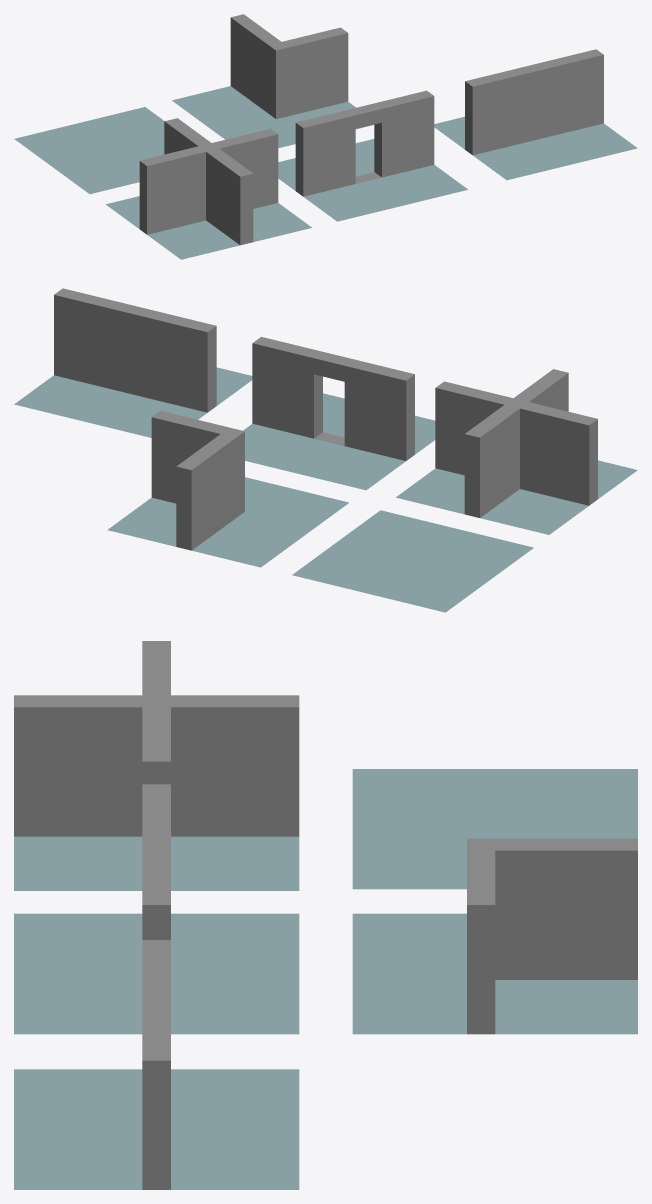
Rendered from daddy.fbx.
3 views of the same model, one above another, from view 1: azimuth 30°, elevation 25°; view 2: azimuth 150°, elevation 25°; view 3: azimuth 270°, elevation 25° (orthographic). The views are drawn at different scales.
Visible parts, largest first — view 1: SM_Muur_Cross, SM_Muur_Reg, SM_Muur_Door, SM_Muur_Corner, SM_Muur_Floor; view 2: SM_Muur_Cross, SM_Muur_Reg, SM_Muur_Door, SM_Muur_Corner, SM_Muur_Floor; view 3: SM_Muur_Cross, SM_Muur_Corner, SM_Muur_Reg, SM_Muur_Door, SM_Muur_Floor.
Boxes of the visible parts, box(x1,y1,x2,y2) form: SM_Muur_Cross: box(106, 118, 311, 259); SM_Muur_Reg: box(434, 49, 637, 180); SM_Muur_Door: box(278, 90, 467, 221); SM_Muur_Corner: box(172, 14, 373, 148); SM_Muur_Floor: box(14, 107, 164, 193); SM_Muur_Cross: box(396, 369, 637, 534); SM_Muur_Reg: box(14, 288, 252, 437); SM_Muur_Door: box(243, 337, 435, 490); SM_Muur_Corner: box(107, 410, 348, 567); SM_Muur_Floor: box(292, 510, 533, 612); SM_Muur_Cross: box(14, 641, 299, 890); SM_Muur_Corner: box(352, 838, 637, 1034); SM_Muur_Reg: box(14, 940, 299, 1189); SM_Muur_Door: box(14, 784, 299, 1034); SM_Muur_Floor: box(352, 769, 637, 889).
Size of the model in its own units: 1746 by 250 by 1094.
